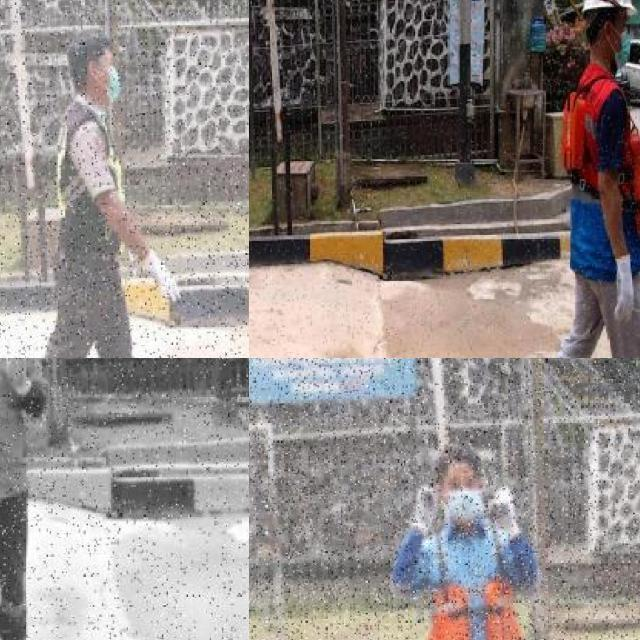apron: (138, 243, 184, 308), (612, 251, 638, 327), (406, 482, 440, 539), (491, 480, 522, 542), (0, 358, 35, 406)
